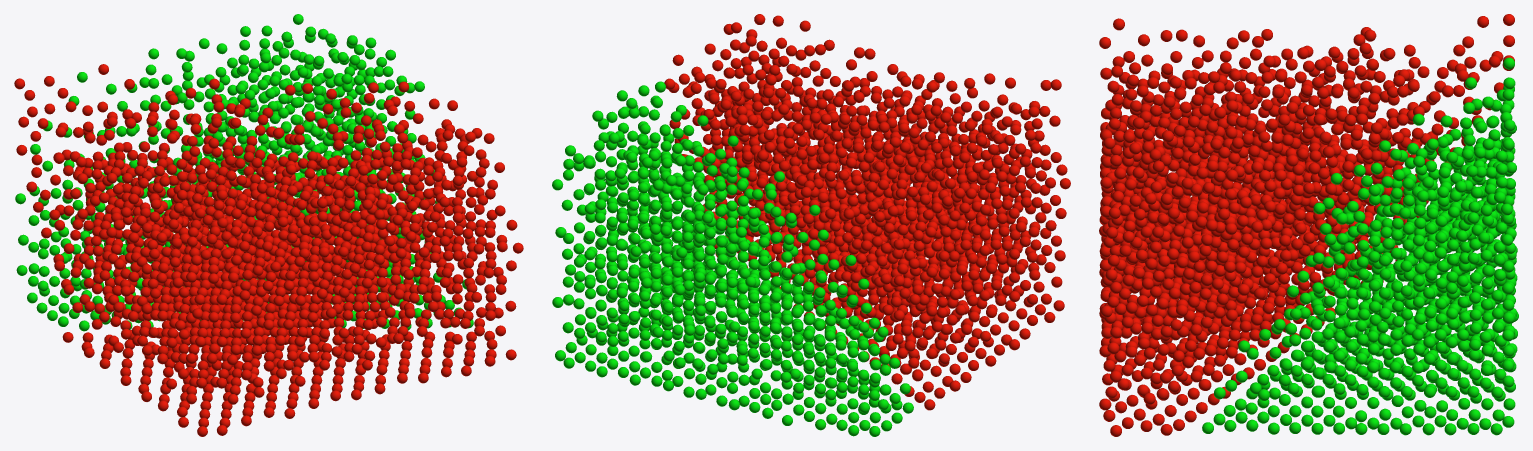
Rendered from crystal.glb.
3 renders of one model, left to right at view 1: azimuth 30°, elevation 25°; view 2: azimuth 150°, elevation 25°; view 3: azimuth 270°, elevation 25°, orthographic. The views are drawn at different scales.
Parts seen in each view (by area): view 1: crystal_Material, crystal_Material.001; view 2: crystal_Material, crystal_Material.001; view 3: crystal_Material, crystal_Material.001.
Part boxes in pixels (x1,y1,x2,y2): crystal_Material: (14, 64, 523, 436); crystal_Material.001: (15, 14, 473, 331); crystal_Material: (664, 14, 1070, 410); crystal_Material.001: (552, 81, 913, 436); crystal_Material: (1099, 14, 1514, 436); crystal_Material.001: (1202, 57, 1518, 435).
Bounding box in the file's own units: 0.5 × 0.3354 × 0.4993.
